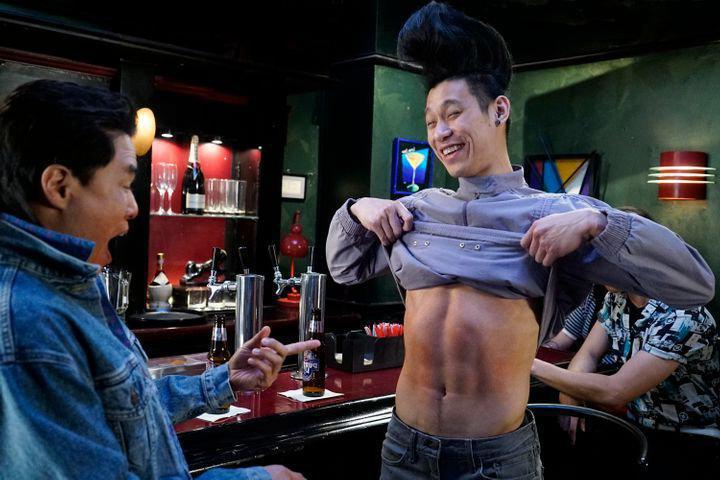Drunk: (425, 90, 487, 173)
